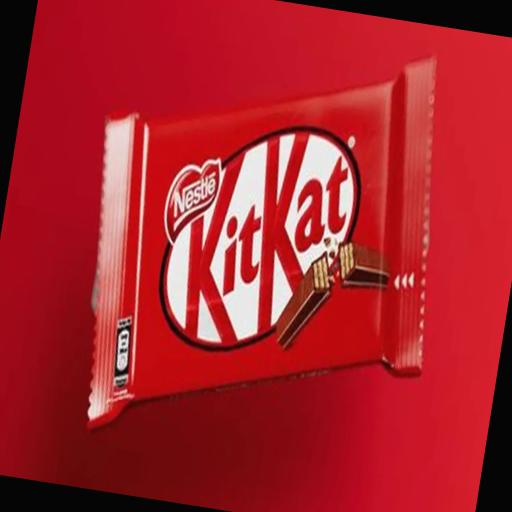kitkat: (46, 43, 496, 489)
